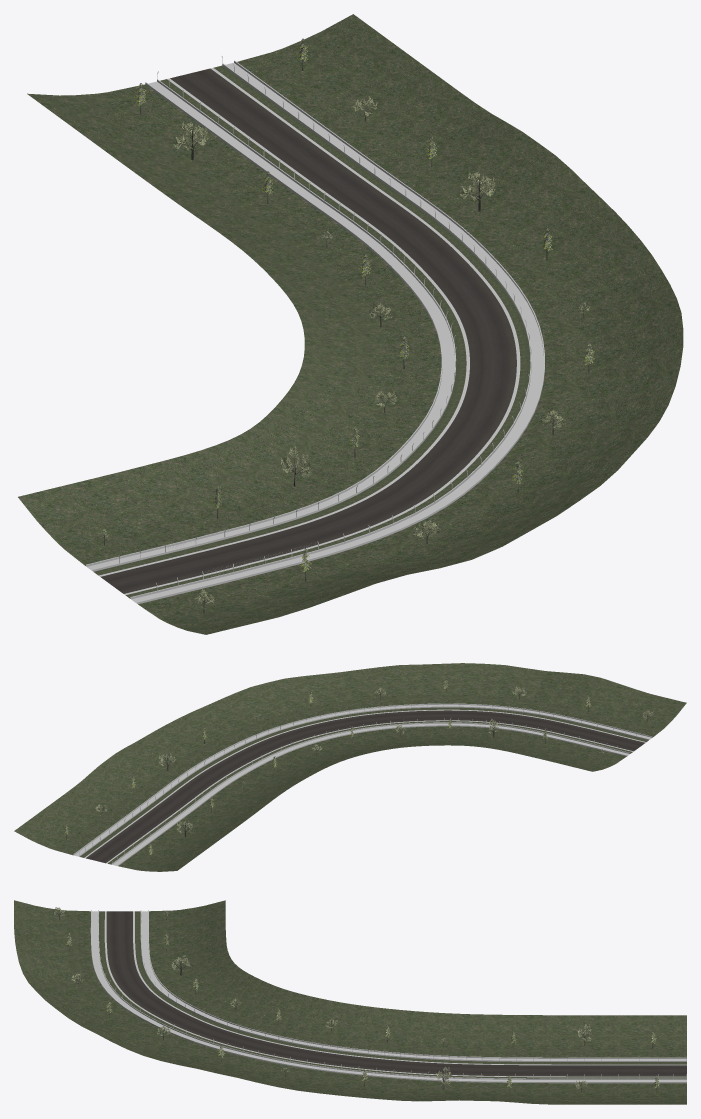
3 views of the same model, one above another, from view 1: azimuth 30°, elevation 25°; view 2: azimuth 150°, elevation 25°; view 3: azimuth 270°, elevation 25° (orthographic). The views are drawn at different scales.
Parts seen in each view (by area): view 1: Grass, Road, Track, Trees; view 2: Grass, Track, Road, Trees; view 3: Grass, Track, Road, Trees.
Boxes of the visible parts, bbox=[...] form: Grass: bbox=[18, 14, 683, 634]; Road: bbox=[100, 68, 516, 593]; Track: bbox=[86, 56, 544, 604]; Trees: bbox=[98, 38, 594, 613]; Grass: bbox=[14, 663, 686, 871]; Track: bbox=[73, 703, 652, 865]; Road: bbox=[86, 710, 645, 863]; Trees: bbox=[64, 677, 653, 858]; Grass: bbox=[14, 900, 686, 1104]; Track: bbox=[90, 910, 686, 1083]; Road: bbox=[106, 911, 686, 1076]; Trees: bbox=[52, 907, 659, 1093].
Size of what is drawn, in the model's own units: 32000 by 1796 by 44508.
